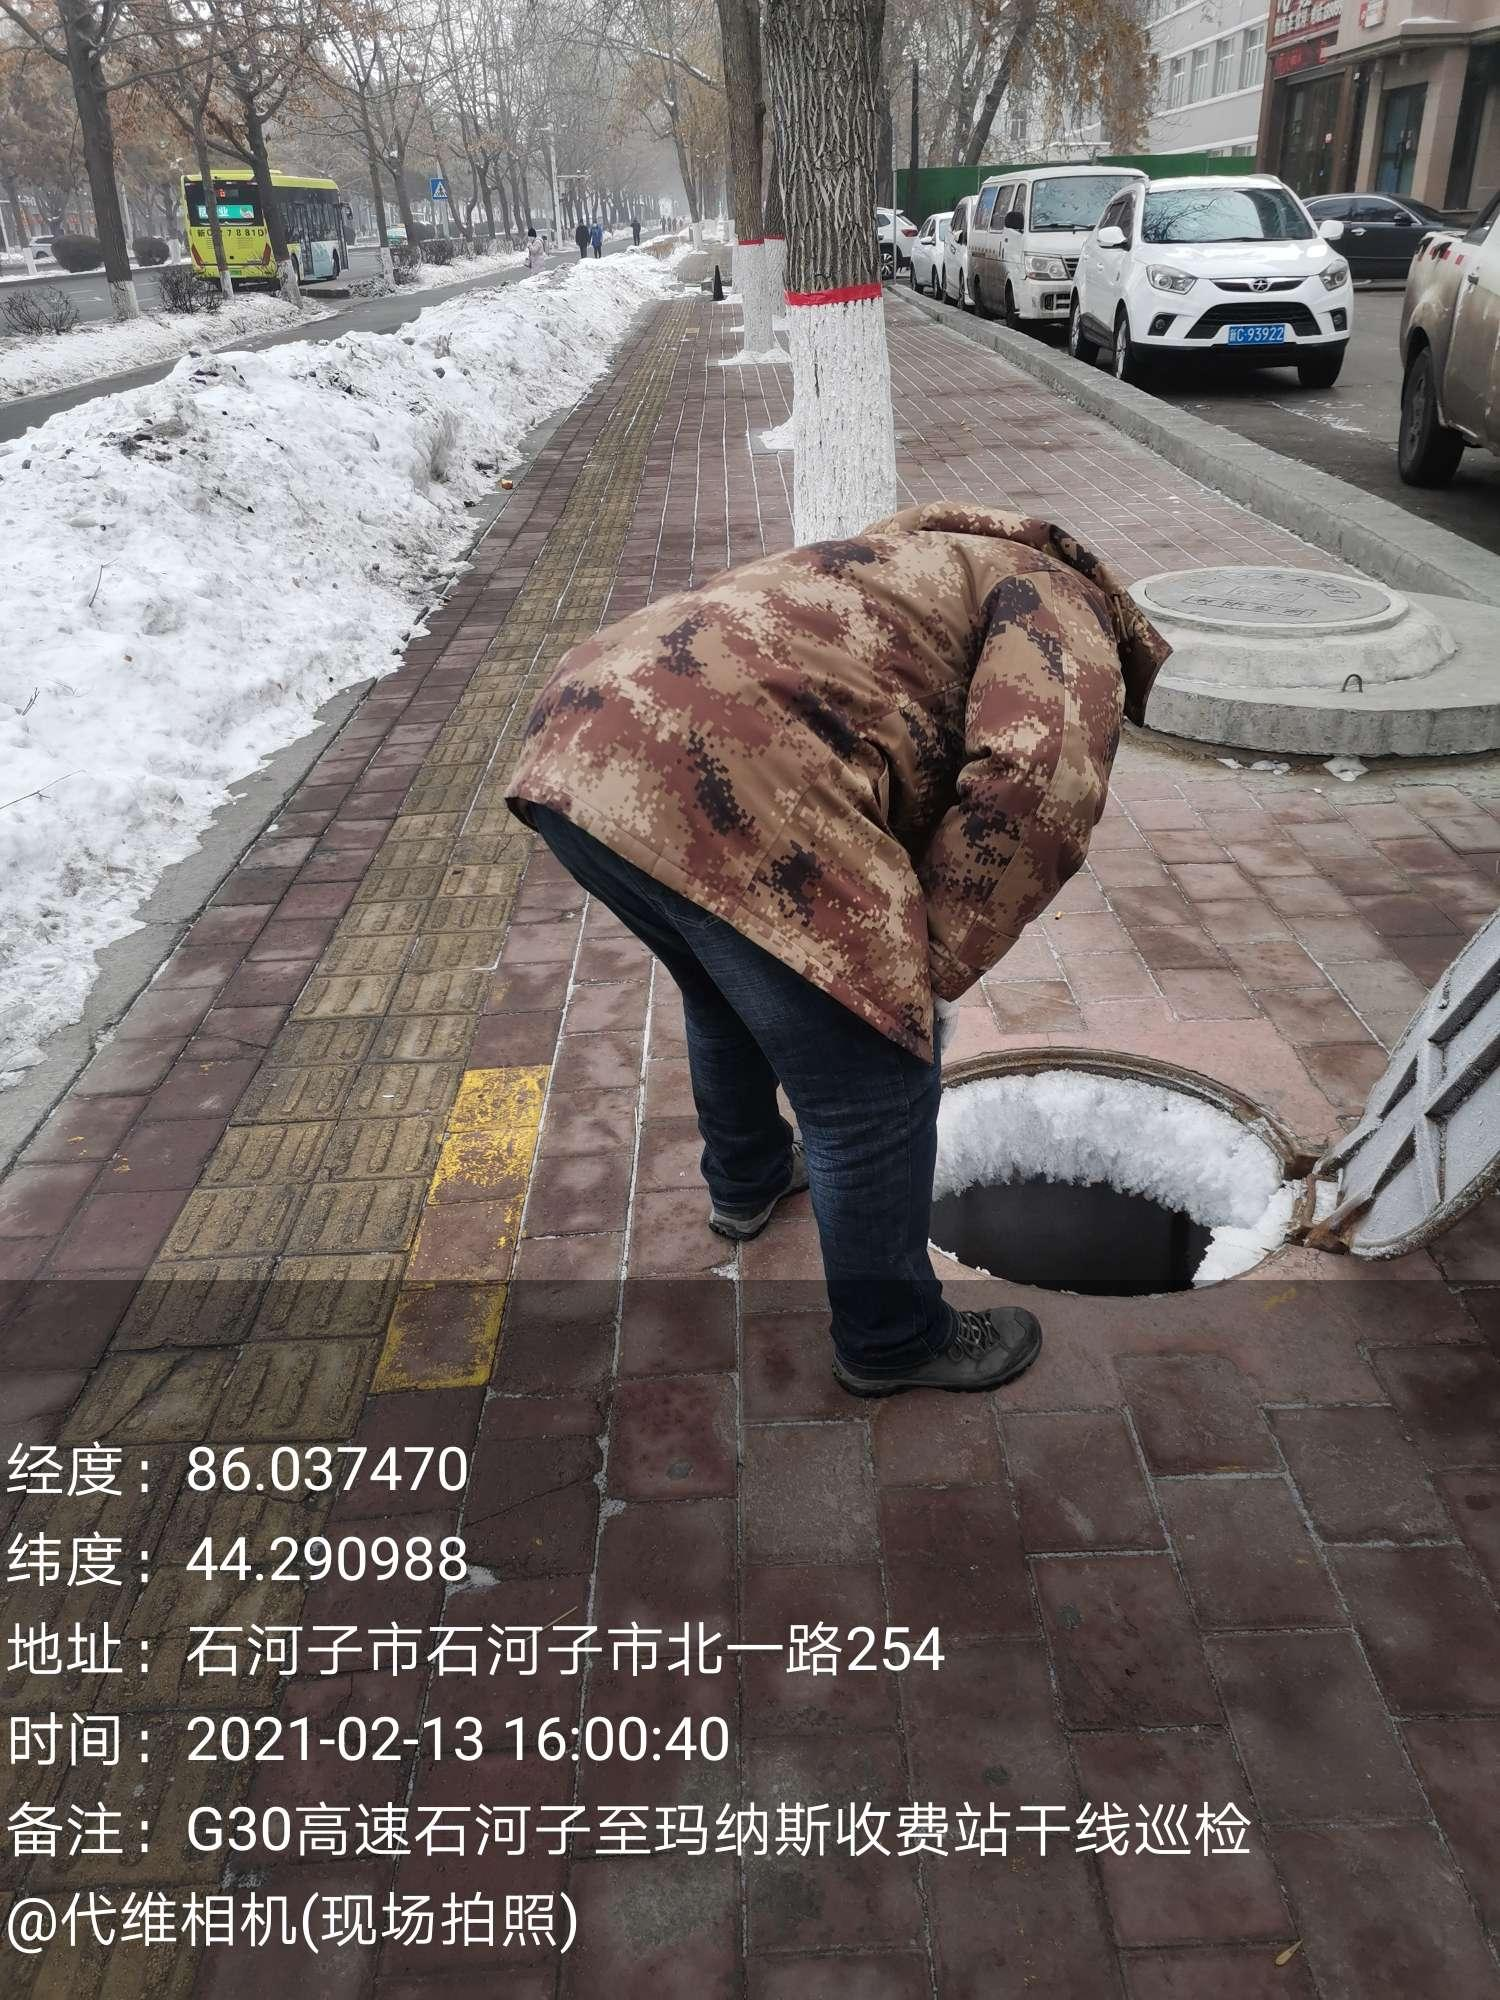wellcover: (898, 896, 1500, 1197)
